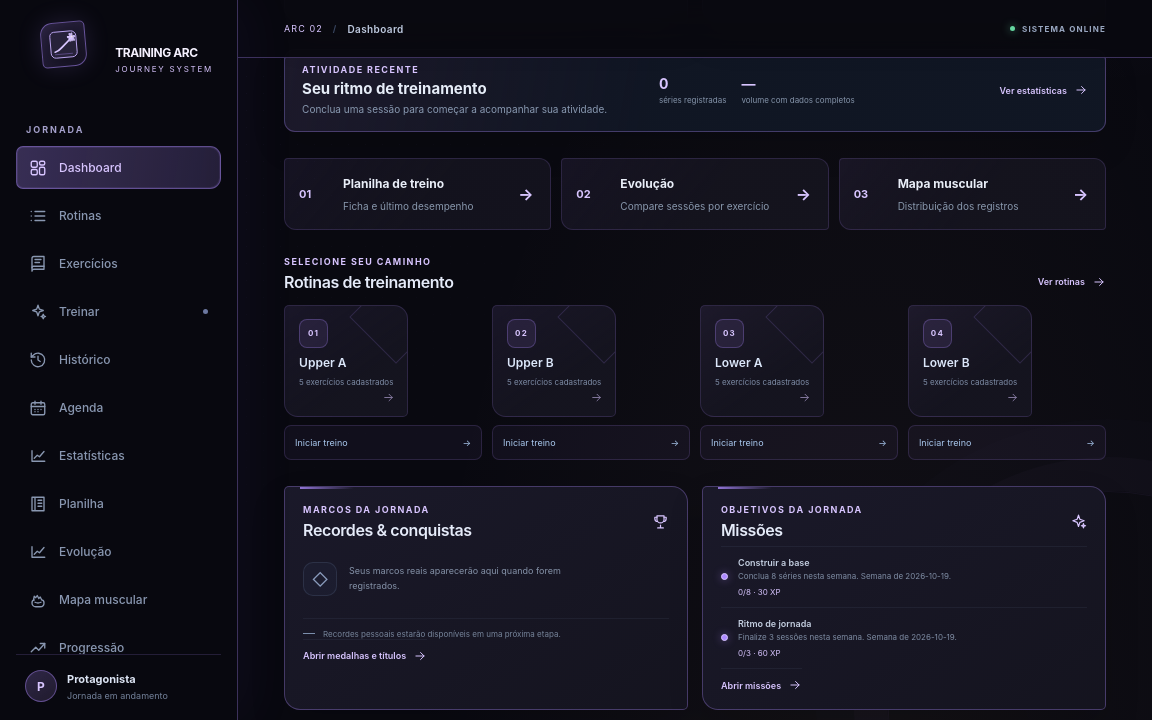
it: routines flow › provides four initial routines and opens the matching routine from the dashboard
(page scrolled)
What coordinates should you click on to do the following:
click the button with aria-label "Abrir ficha Upper A"
I would click on:
 (346, 361)
Its box is [284, 305, 408, 417].
(page scrolled)
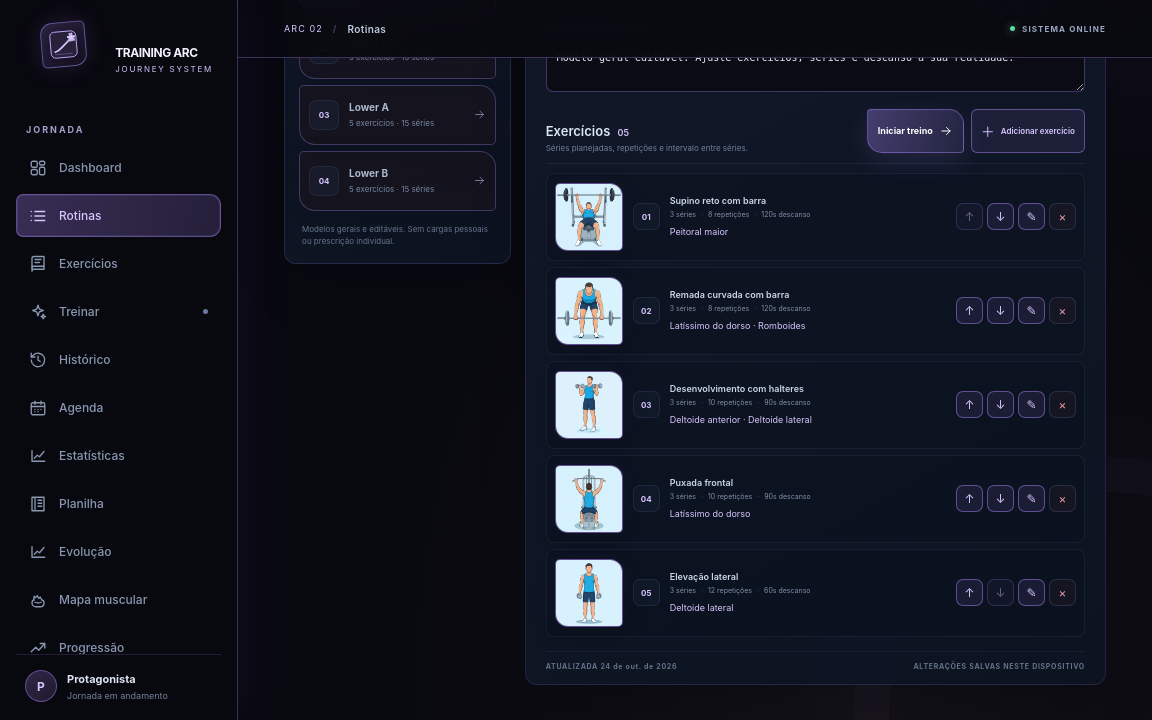
expect the text "Supino reto com barra" is shown: met, box [670, 195, 766, 206]
expect the picture named "Supino reto com barra: posição inicial" is shown: met, box [556, 184, 622, 250]
What coordinates should you click on to do the following:
click the button "Dashboard"
I would click on:
 (118, 168)
Its box is [16, 146, 221, 189].
(page scrolled)
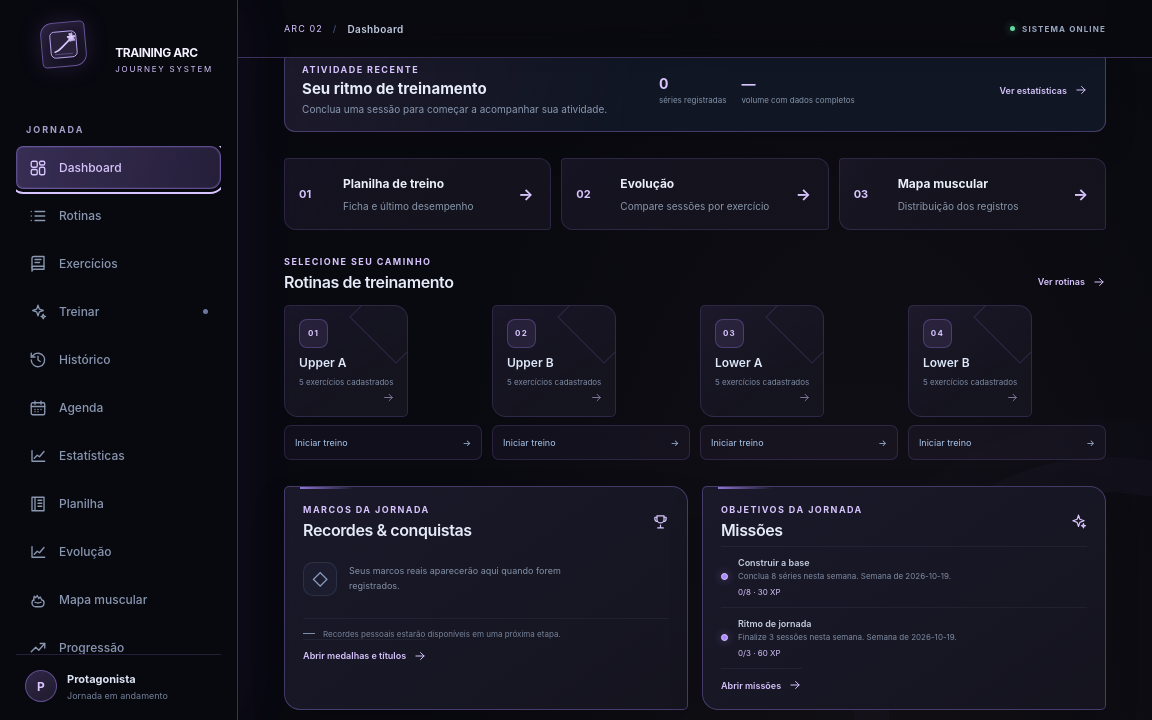
What coordinates should you click on to do the following:
click the button with aria-label "Abrir ficha Lower A"
I would click on:
 (762, 361)
Its box is [700, 305, 824, 417].
(page scrolled)
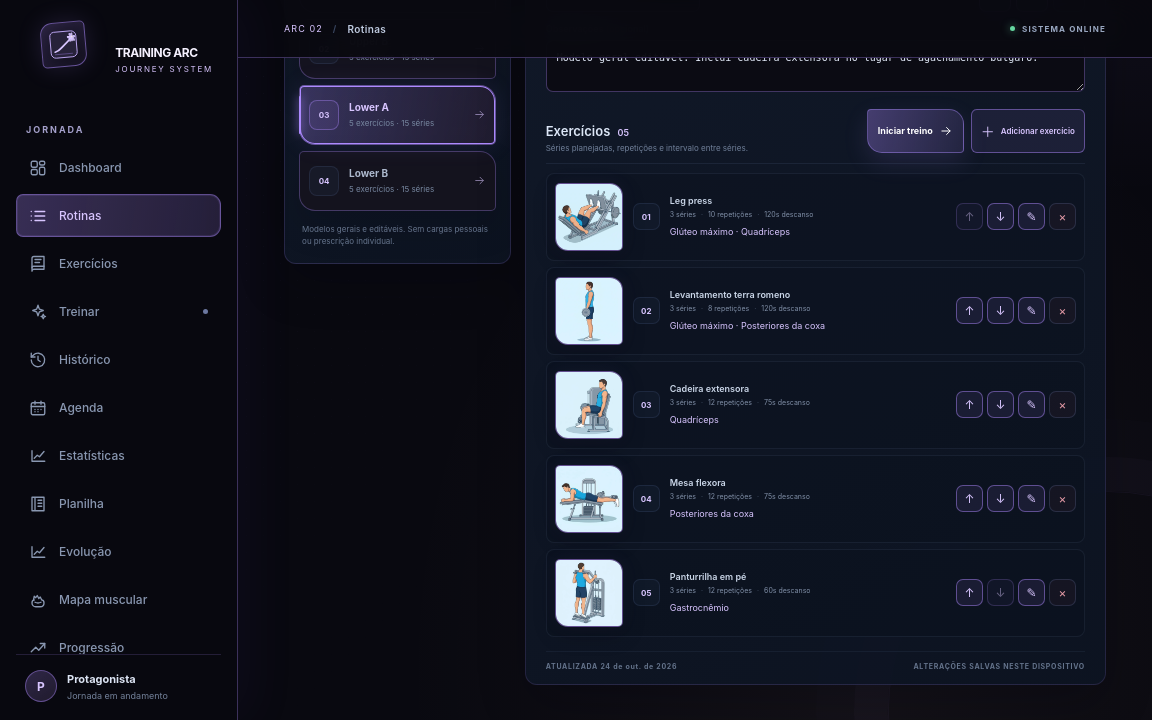
expect the text "Cadeira extensora" is shown: met, box [670, 383, 749, 394]
